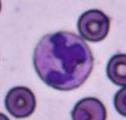N: (32, 30, 92, 90)
